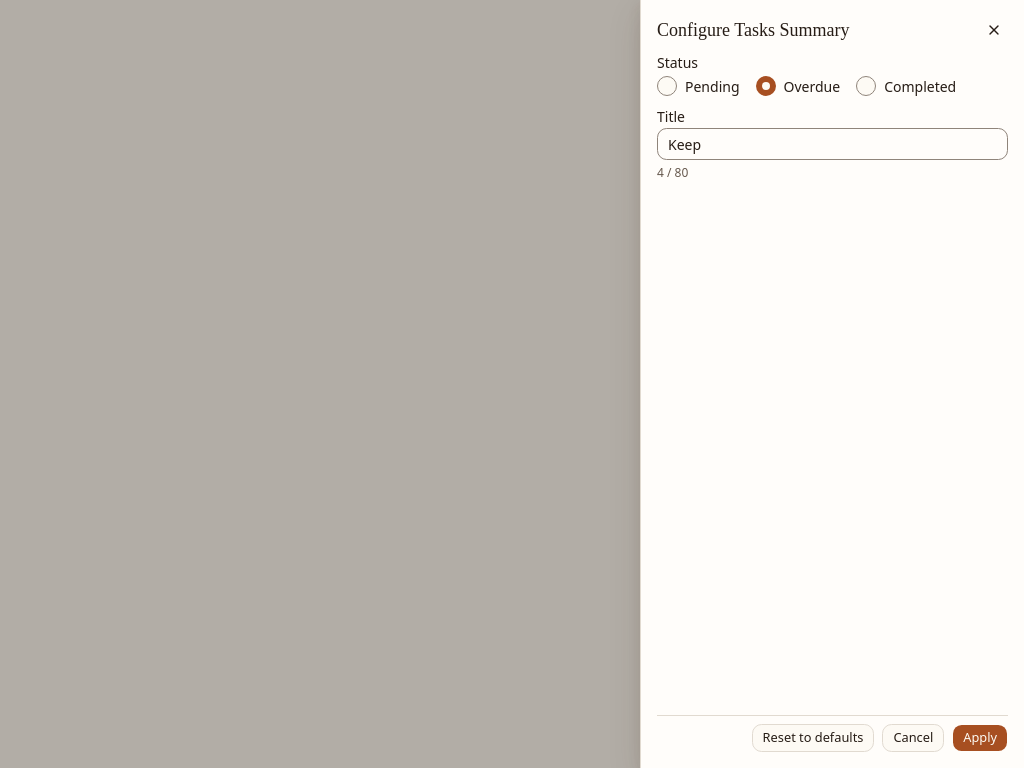
it: ConfigPanel › Reset to defaults clears the form values
Expected: the field with test id "zod-field-title" holds "Keep", [657, 128, 1008, 160]
Click the button with test id "config-reset" at (813, 738), box [752, 724, 874, 752]
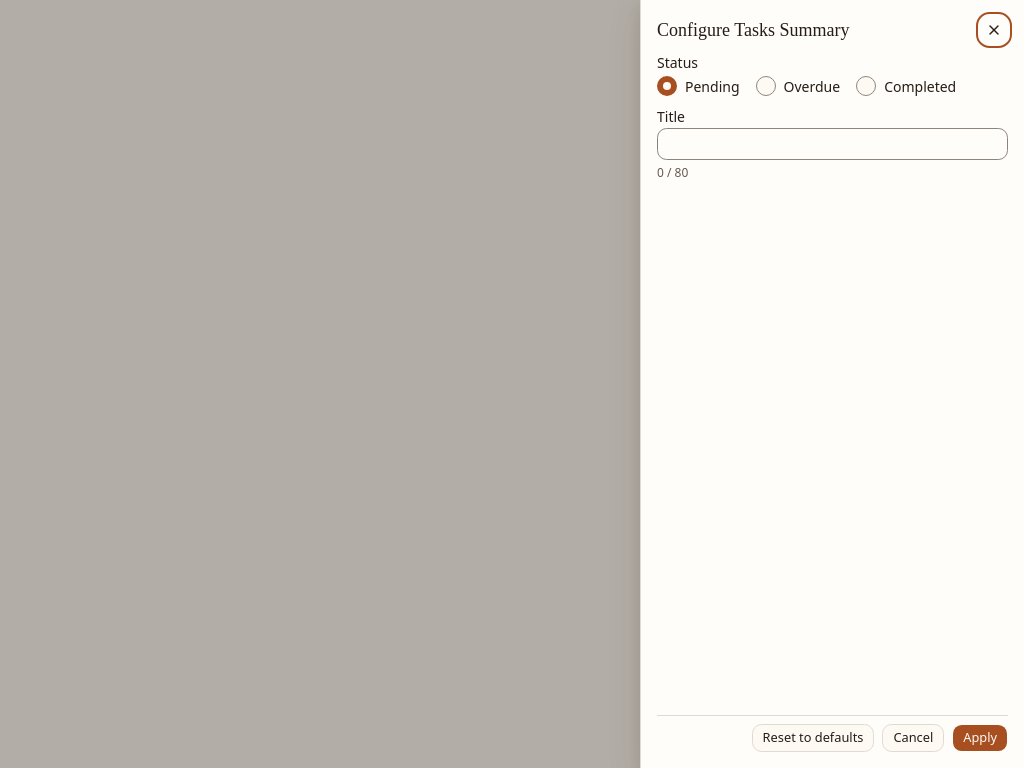
Result: the field with test id "zod-field-title" is empty at [657, 128, 1008, 160]
